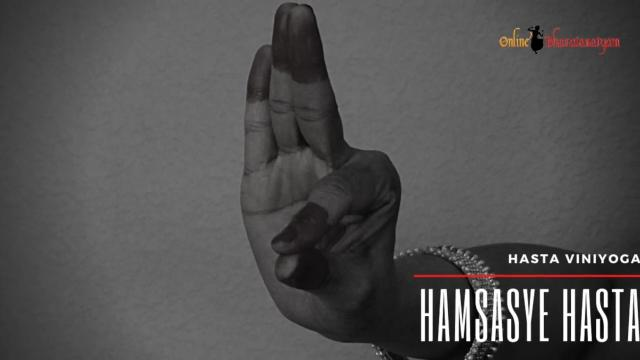hansaasya: (225, 0, 418, 340)
